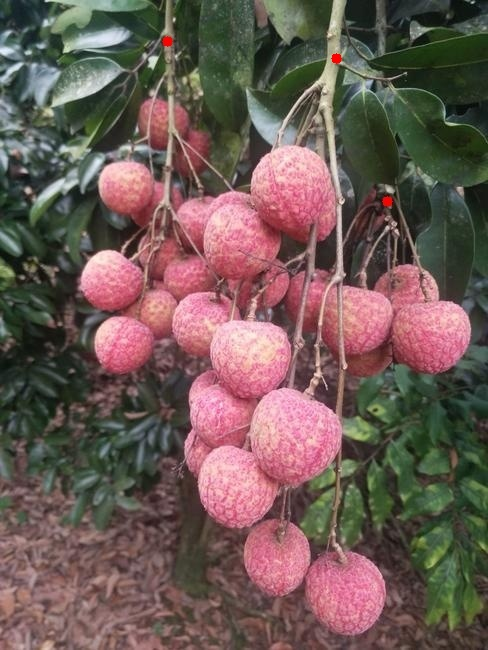litchi: (180, 152, 379, 630), (87, 98, 224, 372), (294, 261, 467, 374)
stem: (366, 1, 398, 211), (305, 1, 350, 132), (160, 0, 184, 143)
